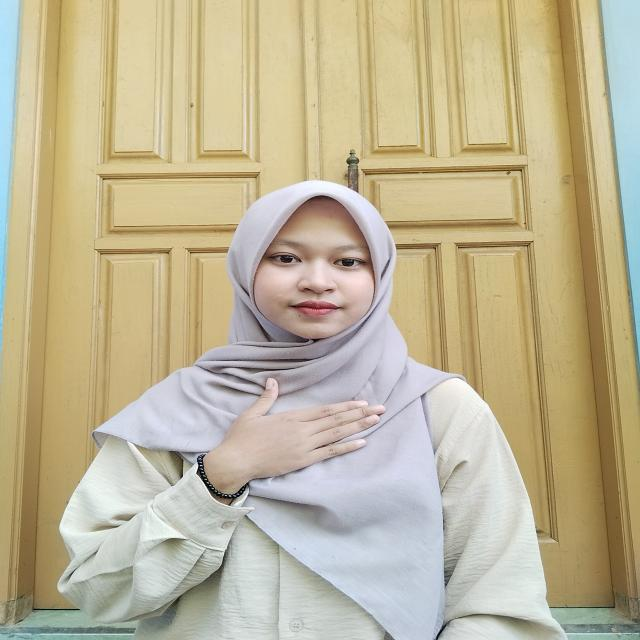tolong: (201, 372, 395, 510)
